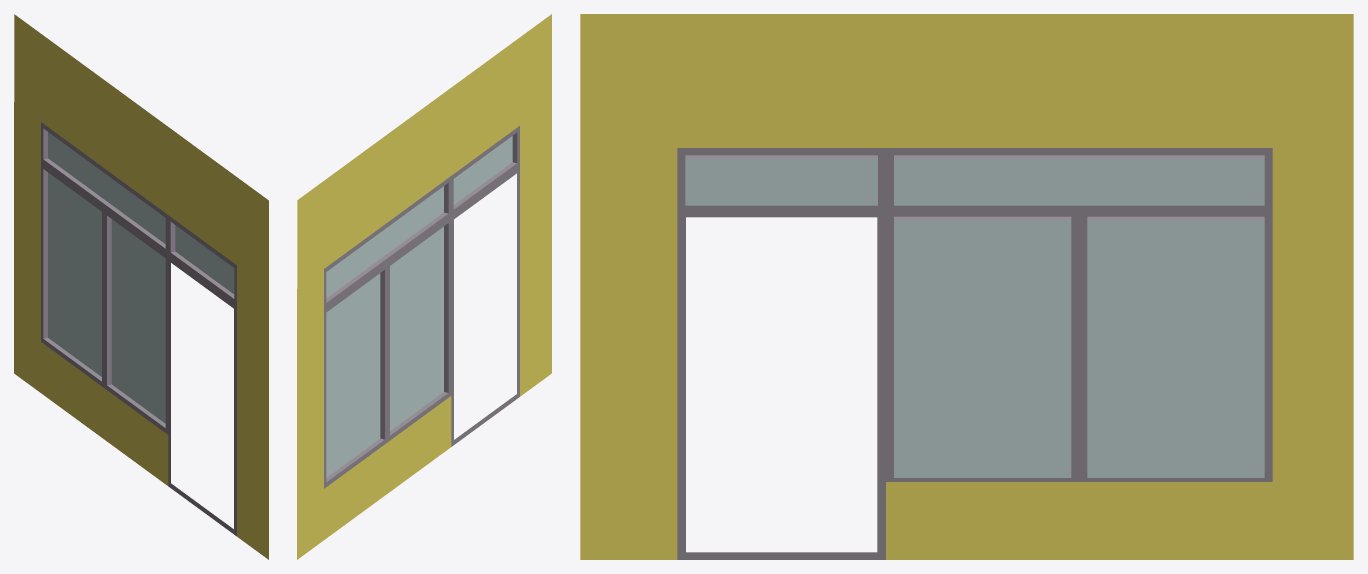
File: Building_E_V2_Front_Wall.fbx
3 views of the same model, side by side, from view 1: azimuth 30°, elevation 25°; view 2: azimuth 150°, elevation 25°; view 3: azimuth 270°, elevation 25° (orthographic). The views are drawn at different scales.
Parts seen in each view (by area): view 1: Building_E_V2_Front_Wall; view 2: Building_E_V2_Front_Wall; view 3: Building_E_V2_Front_Wall.
Boxes of the visible parts, bbox=[...] form: Building_E_V2_Front_Wall: bbox=[14, 14, 268, 559]; Building_E_V2_Front_Wall: bbox=[297, 14, 551, 559]; Building_E_V2_Front_Wall: bbox=[580, 14, 1353, 559].
Size of the model in its own units: 4.15 by 312 by 400.
